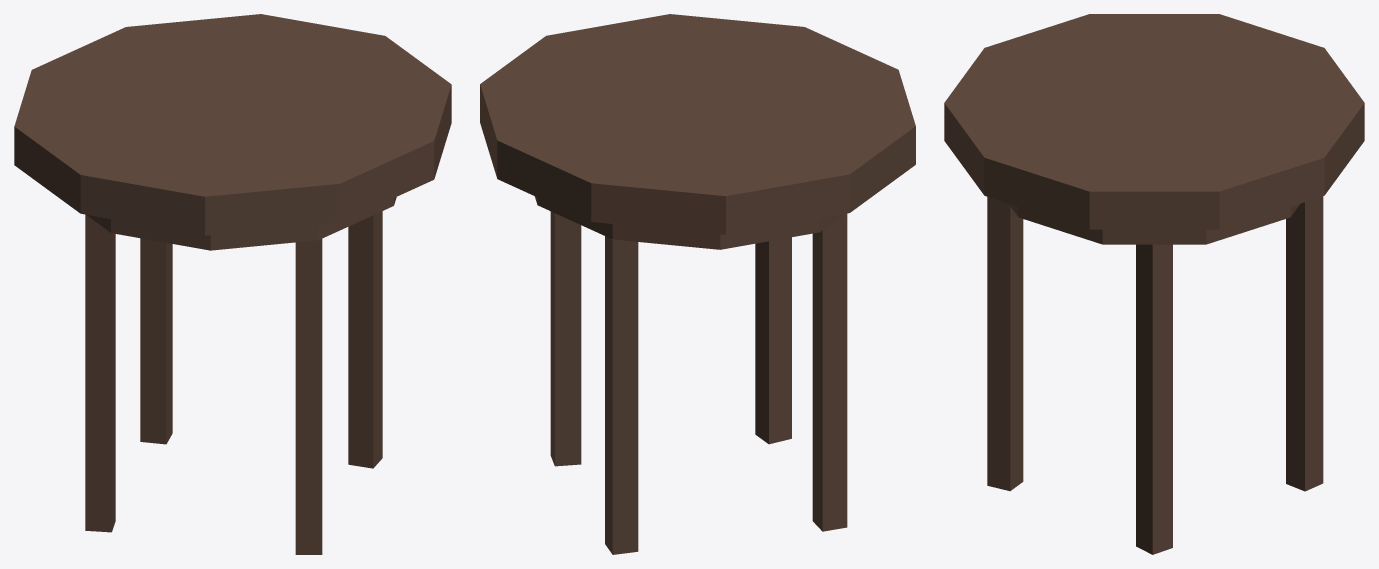
The model's file is tavern-round-table.glb.
3 renders of one model, left to right at view 1: azimuth 30°, elevation 25°; view 2: azimuth 150°, elevation 25°; view 3: azimuth 270°, elevation 25°, orthographic.
Visible parts, largest first — view 1: round_table; view 2: round_table; view 3: round_table.
Boxes of the visible parts, x1,y1,x2,y2 form: round_table: (14,14,451,554); round_table: (480,14,915,554); round_table: (944,14,1364,554).
Size of the model in its own units: 0.7 by 0.7 by 0.7.
